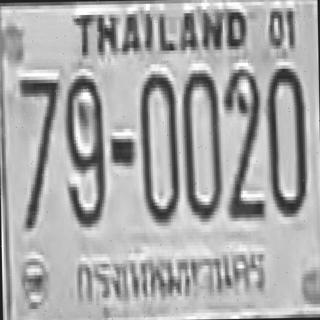N00: (265, 65, 306, 214), (138, 70, 178, 222), (181, 66, 220, 218)
N02: (223, 66, 262, 214)
N07: (18, 74, 60, 226)
N09: (63, 72, 104, 224)
P04: (71, 250, 269, 315)
